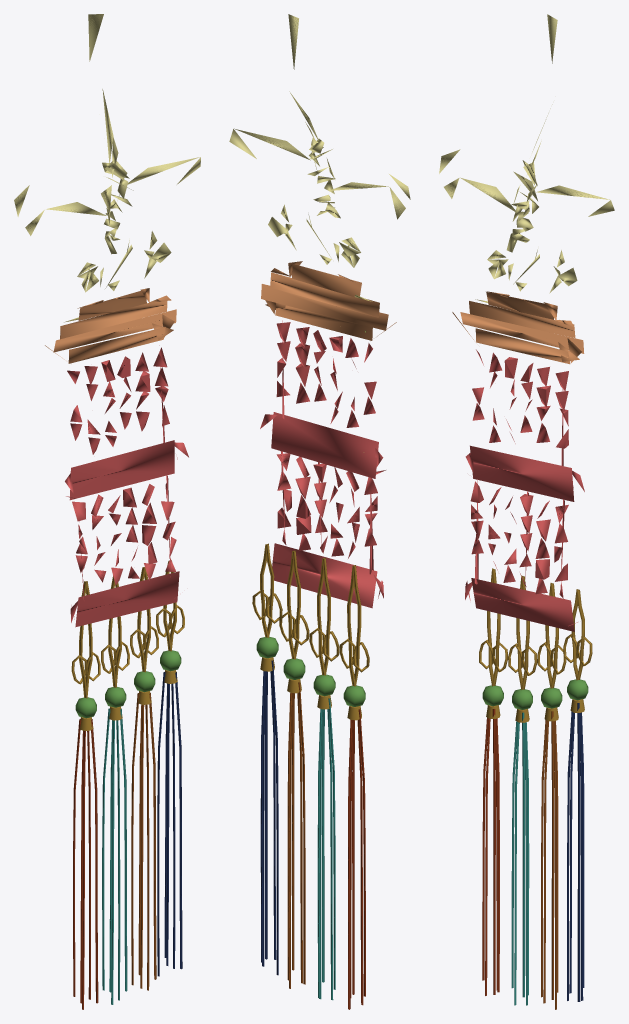
The model's file is chinese-knot-far.glb.
3 renders of one model, left to right at view 1: azimuth 30°, elevation 25°; view 2: azimuth 150°, elevation 25°; view 3: azimuth 330°, elevation 25°, orthographic. The views are drawn at different scales.
Parts seen in each view (by area): view 1: red-gold-knot-and-tassels; view 2: red-gold-knot-and-tassels; view 3: red-gold-knot-and-tassels.
Part boxes in pixels (x1=…): red-gold-knot-and-tassels: x1=14, y1=14, x2=200, y2=1009; red-gold-knot-and-tassels: x1=229, y1=14, x2=410, y2=1009; red-gold-knot-and-tassels: x1=439, y1=14, x2=614, y2=1009.
Size of the model in its own units: 0.193 by 0.9933 by 0.0716.
